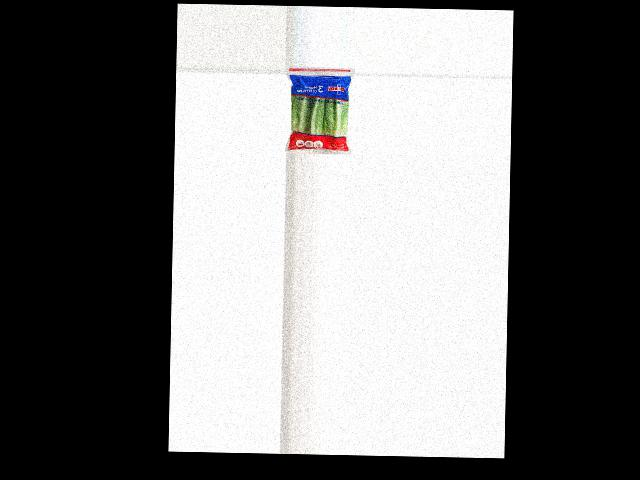lettuce: (286, 72, 351, 154)
